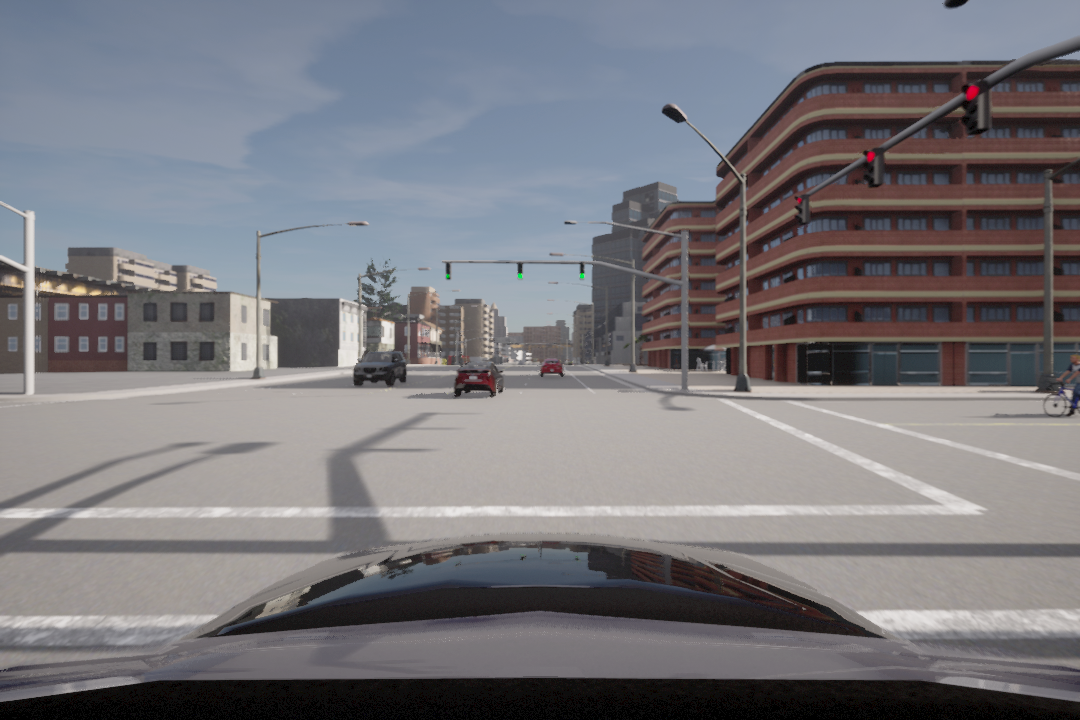TrafficLight: (964, 79, 987, 132), (861, 143, 885, 191), (792, 194, 811, 226), (577, 262, 587, 284), (515, 261, 525, 281), (444, 261, 452, 281)
